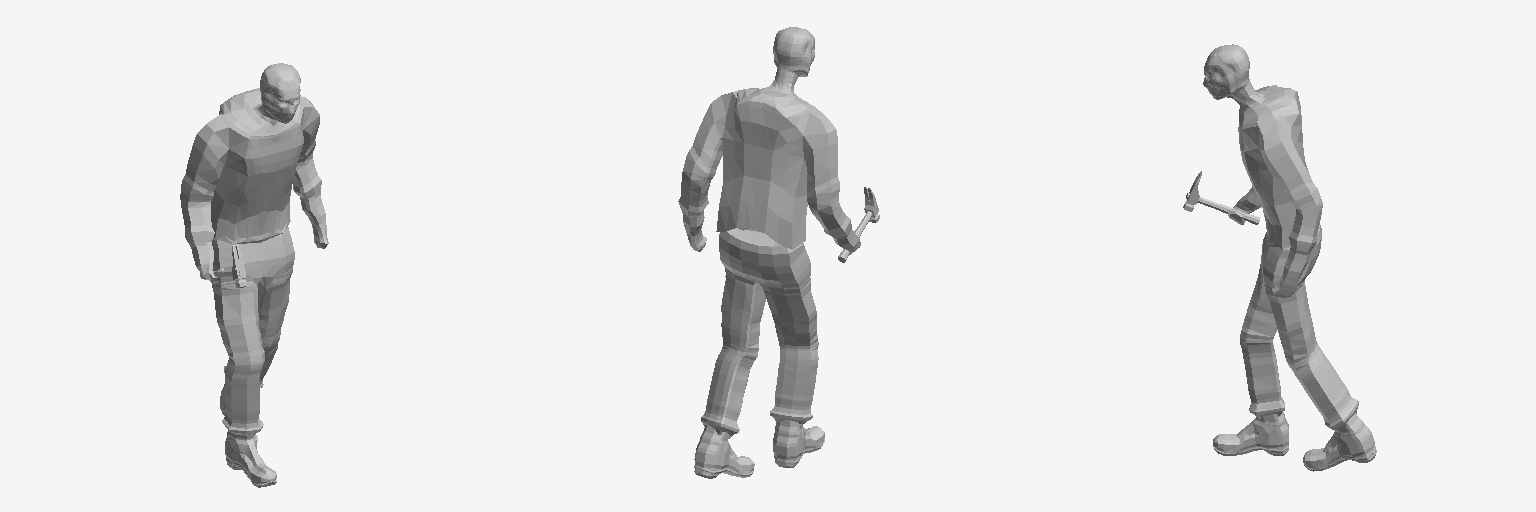
File: Murderer_Idle68.obj
3 views of the same model, side by side, from view 1: azimuth 30°, elevation 25°; view 2: azimuth 150°, elevation 25°; view 3: azimuth 270°, elevation 25° (orthographic).
Visible parts, largest first — view 1: Körper, Beine, Stiefel, Hammer; view 2: Körper, Beine, Stiefel, Hammer; view 3: Körper, Beine, Stiefel, Hammer.
Boxes of the visible parts, x1=… form: Körper: x1=180, y1=63, x2=328, y2=283; Beine: x1=211, y1=227, x2=294, y2=434; Stiefel: x1=220, y1=384, x2=276, y2=487; Hammer: x1=200, y1=244, x2=246, y2=287; Körper: x1=678, y1=27, x2=860, y2=254; Beine: x1=701, y1=228, x2=818, y2=438; Stiefel: x1=694, y1=420, x2=824, y2=478; Hammer: x1=838, y1=187, x2=879, y2=262; Körper: x1=1203, y1=44, x2=1322, y2=297; Beine: x1=1240, y1=225, x2=1358, y2=430; Stiefel: x1=1213, y1=412, x2=1376, y2=471; Hammer: x1=1183, y1=171, x2=1259, y2=224.
Size of the model in its own units: 0.3582 by 0.9616 by 0.4066.